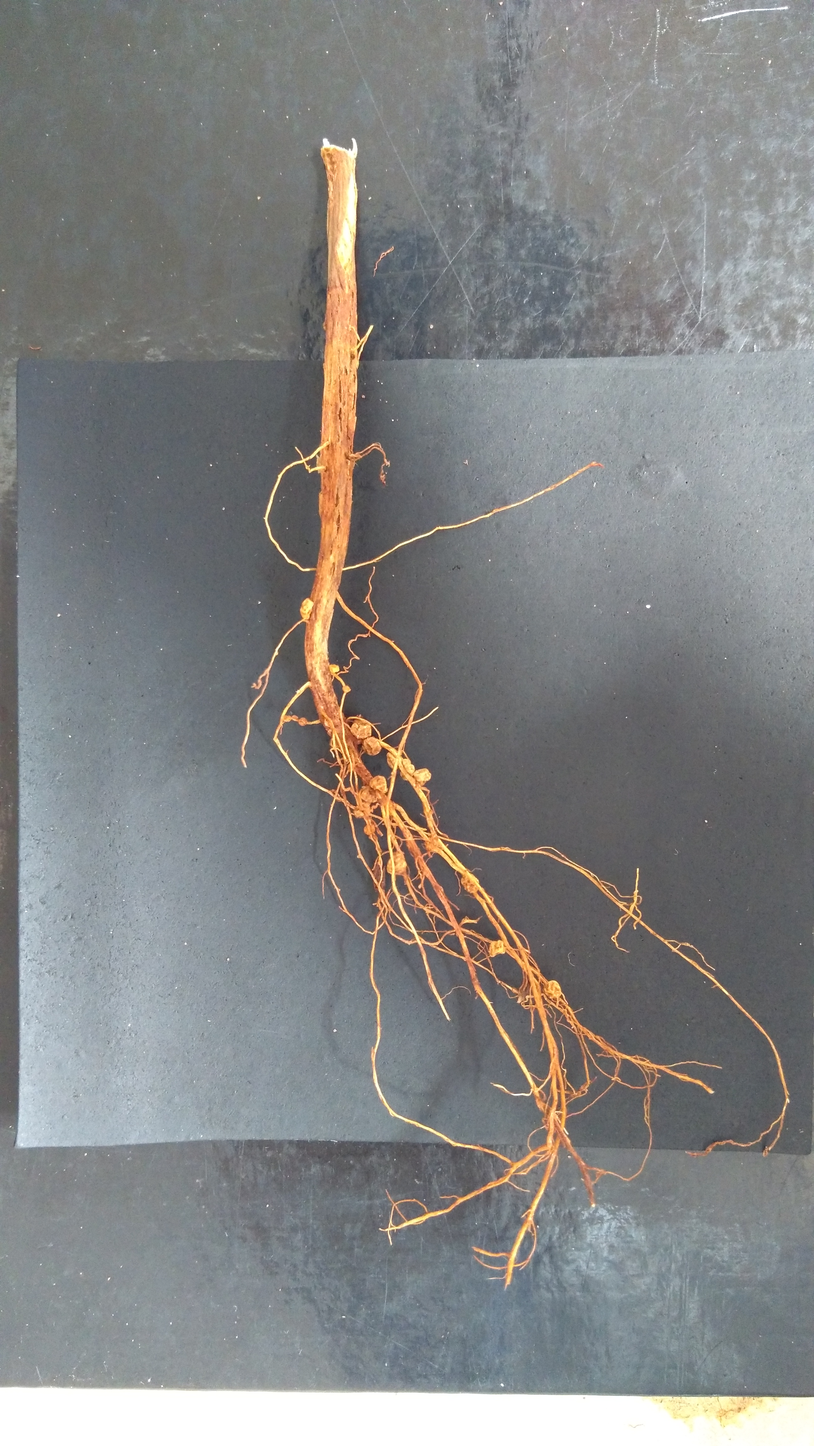nodule: (385, 851, 408, 876), (349, 718, 372, 740), (460, 872, 482, 894), (542, 978, 563, 1000), (361, 736, 382, 757), (487, 938, 508, 959), (298, 597, 314, 622), (368, 775, 389, 794), (400, 758, 416, 782), (358, 785, 378, 804), (424, 836, 444, 854), (385, 751, 401, 771), (412, 767, 432, 783), (363, 823, 376, 836), (351, 809, 365, 819), (329, 663, 340, 674), (298, 716, 308, 727), (341, 684, 351, 693), (282, 714, 292, 723), (292, 715, 299, 720)
